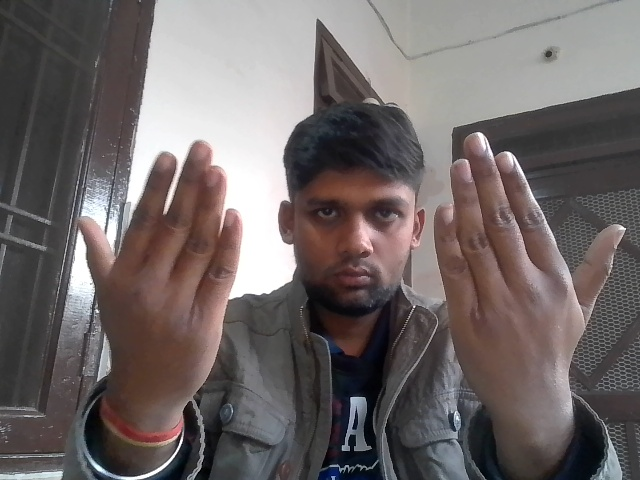ThankYou: (69, 119, 627, 420)
